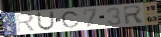3: (106, 7, 123, 26)
7: (83, 8, 98, 28)
C: (60, 11, 81, 29)
R: (123, 5, 146, 26), (15, 12, 37, 33)
U: (36, 11, 55, 31)
